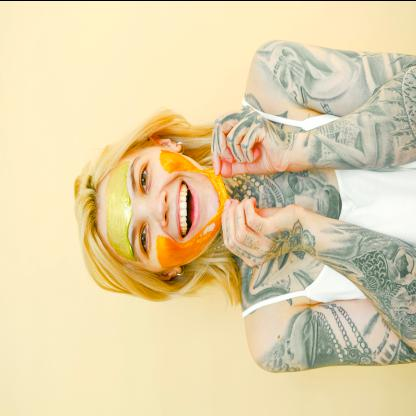Eye: (136, 219, 152, 260), (137, 158, 153, 194)
Mouth: (174, 177, 198, 242)
Nose: (146, 188, 170, 224)
